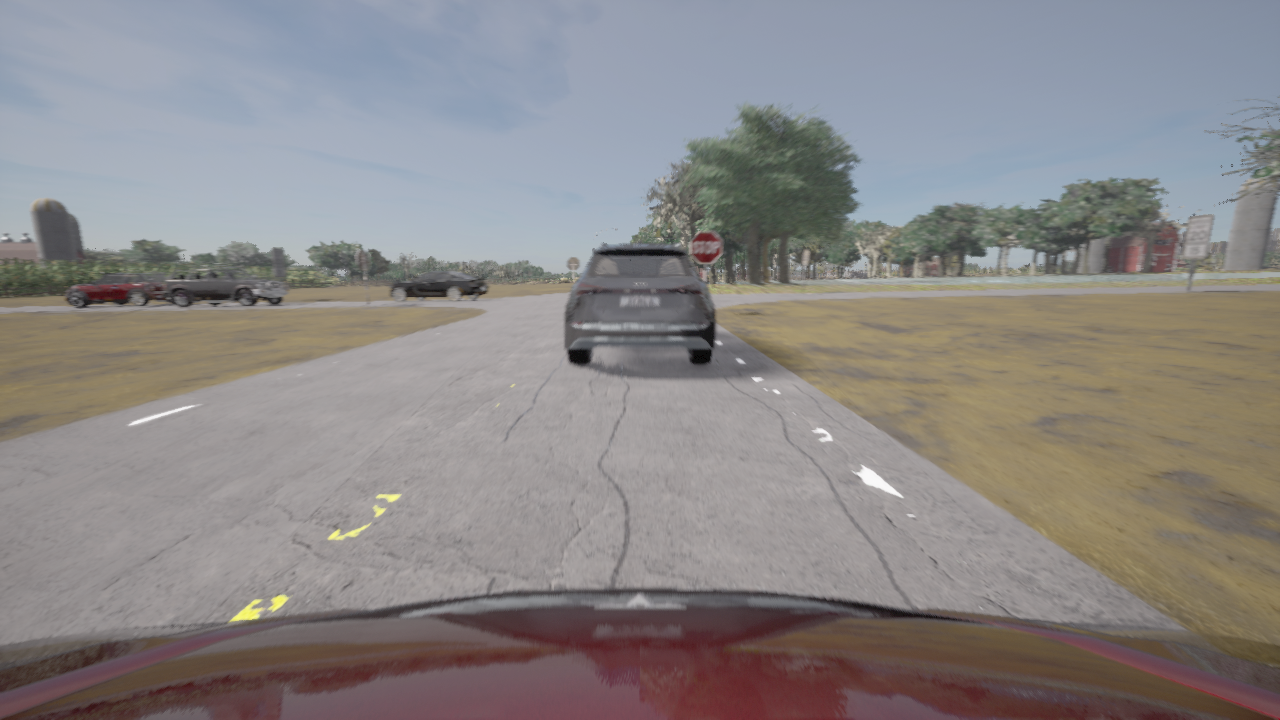cyclist: (0, 588, 1279, 719), (564, 240, 714, 365), (162, 266, 288, 307), (66, 273, 174, 307), (389, 270, 487, 302)
